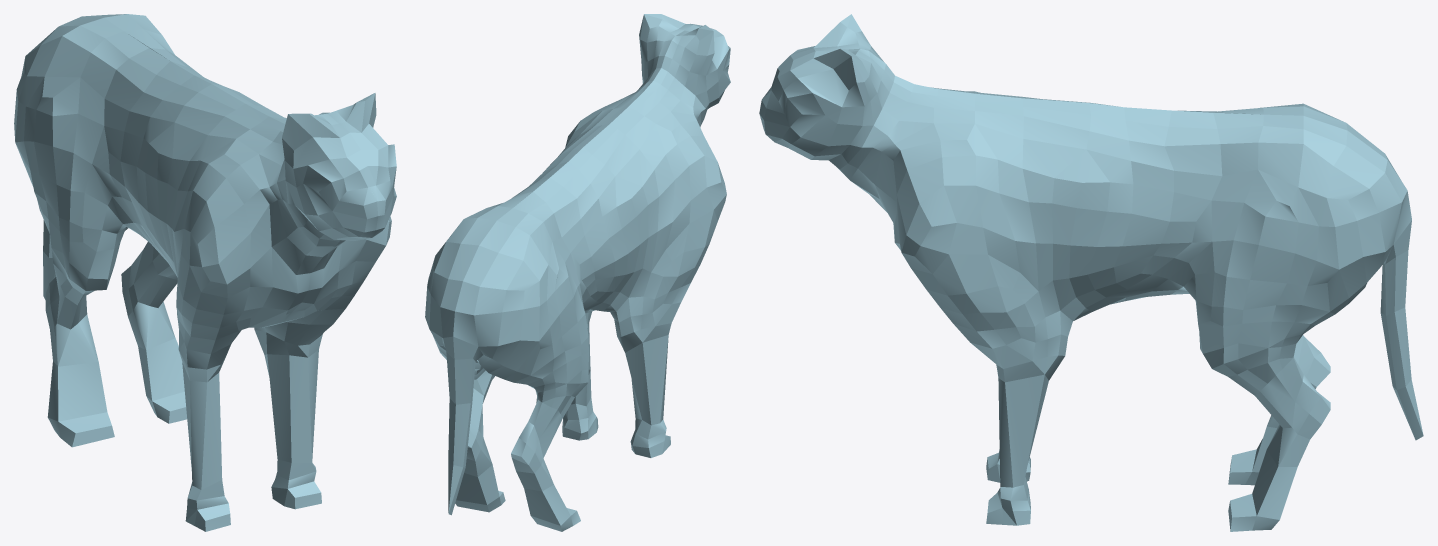
File: authored-carrier-surface.glb
3 renders of one model, left to right at view 1: azimuth 30°, elevation 25°; view 2: azimuth 150°, elevation 25°; view 3: azimuth 270°, elevation 25°, orthographic. The views are drawn at different scales.
Visible parts, largest first — view 1: AUTHORED HIDDEN CARRIER; view 2: AUTHORED HIDDEN CARRIER; view 3: AUTHORED HIDDEN CARRIER.
Boxes of the visible parts, <box> form: AUTHORED HIDDEN CARRIER: <box>14,14,396,531</box>; AUTHORED HIDDEN CARRIER: <box>425,14,730,531</box>; AUTHORED HIDDEN CARRIER: <box>759,14,1423,531</box>.
Bounding box in the file's own units: 20.32 × 47.97 × 62.11.
